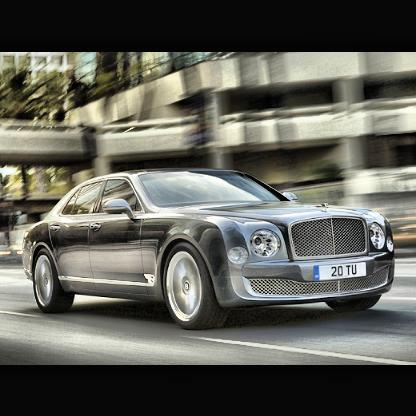Bentley Mulsanne Sedan 2011: (21, 167, 397, 334)
